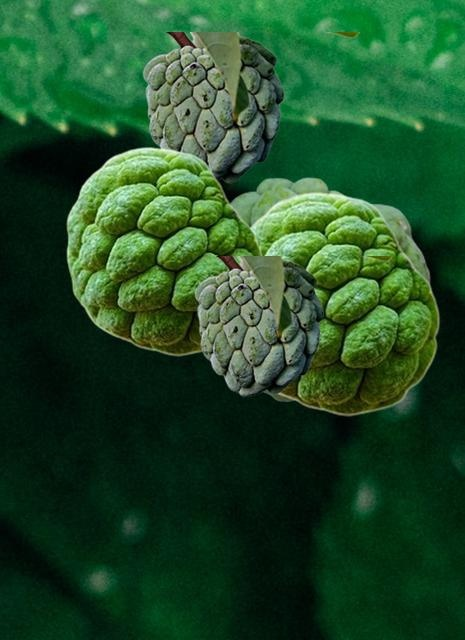atis: (230, 177, 429, 400), (249, 191, 439, 415), (66, 146, 263, 355), (142, 32, 358, 185), (194, 256, 391, 396)
